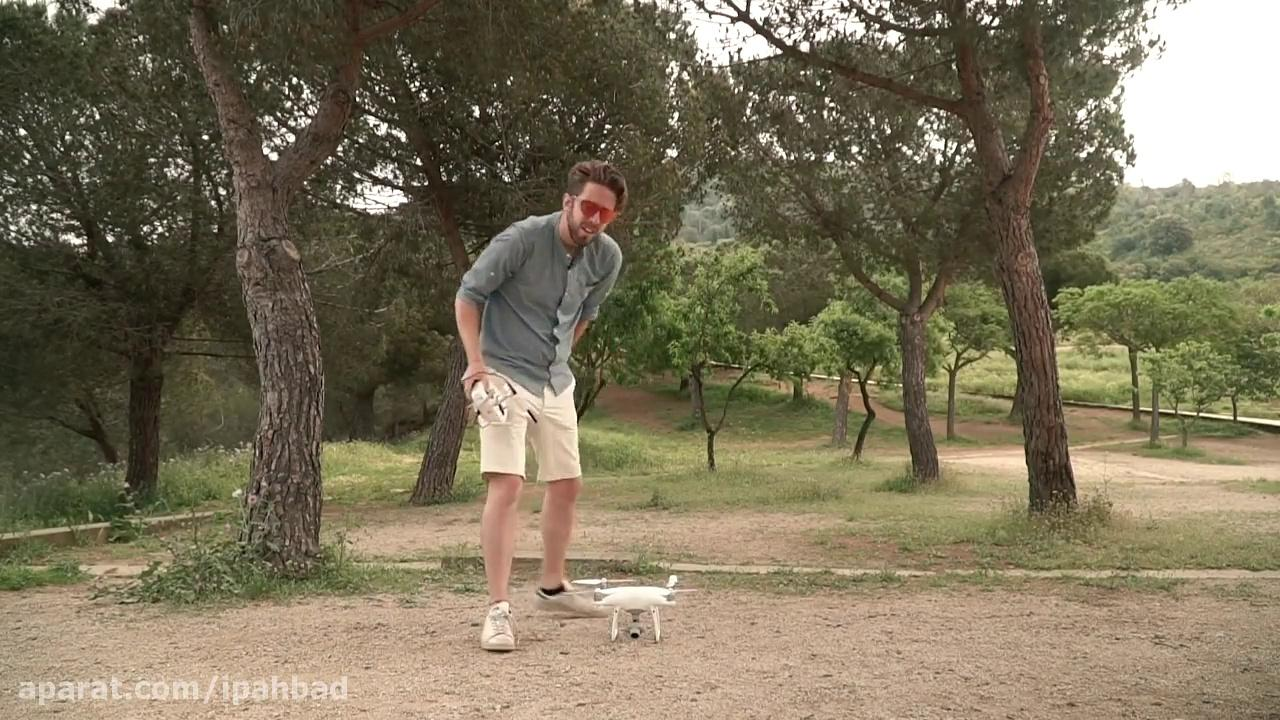drone: (573, 568, 699, 645)
